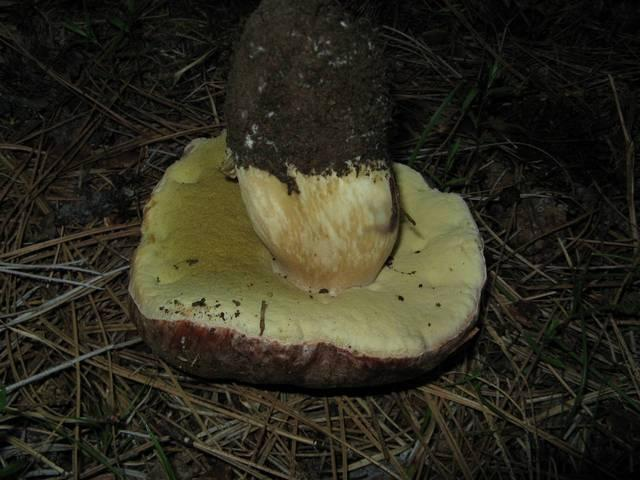edible_mushroom: (131, 0, 489, 395)
